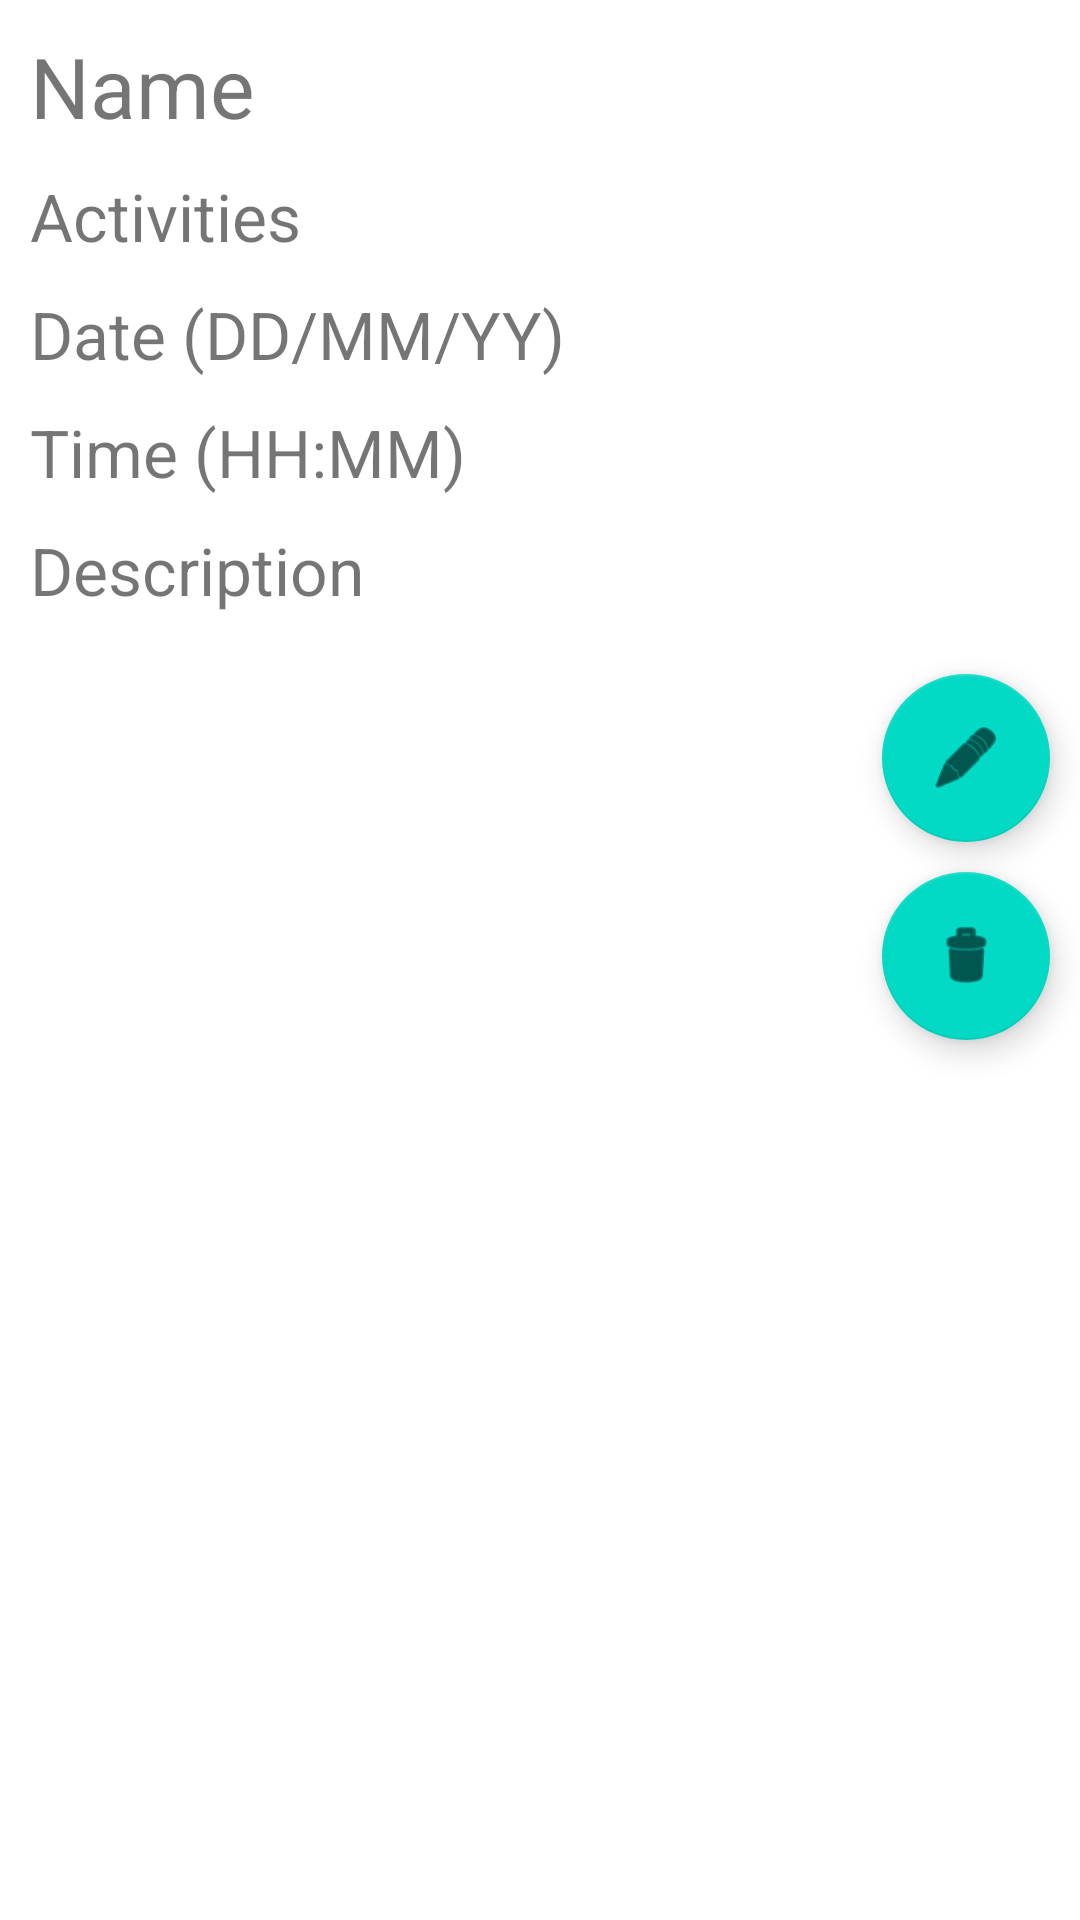

Locate icon controls on the screen. Image size 1080px×1920px, boxes as bbox=[x1, y1, x2, y2].
delete: bbox=[882, 872, 1050, 1040]
edit: bbox=[882, 674, 1050, 842]
